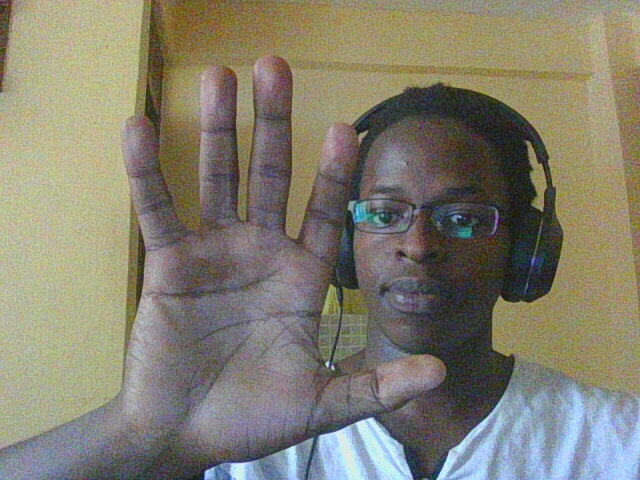Hello: (95, 55, 453, 450)
